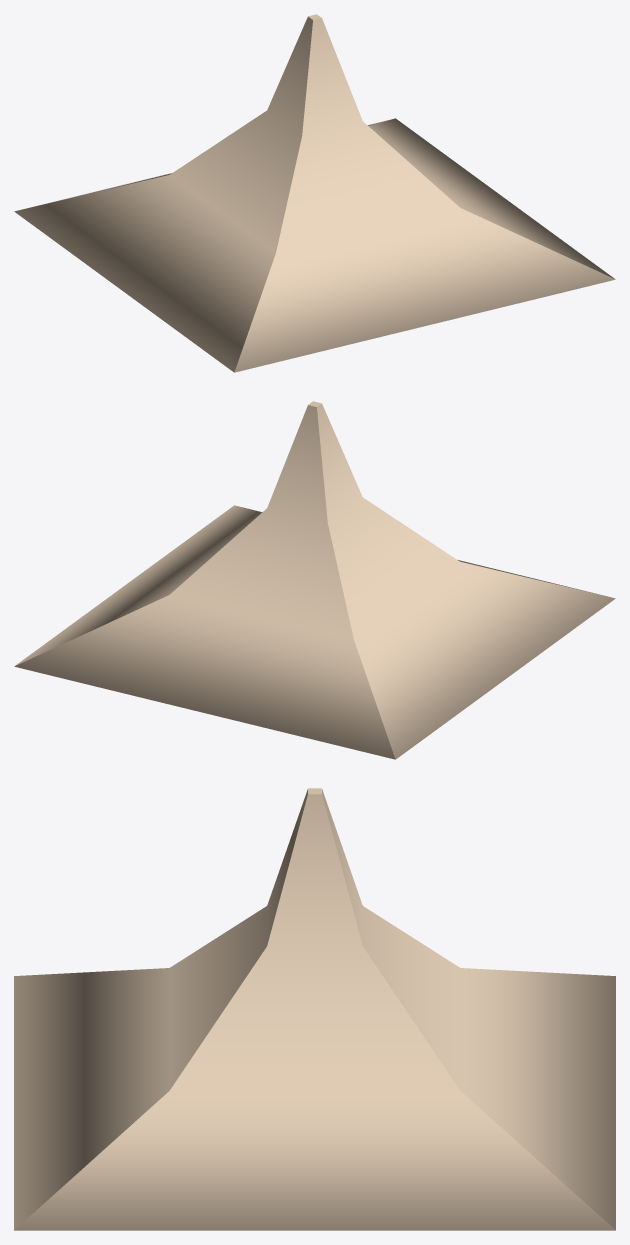
File: pointy_deco.fbx
3 views of the same model, one above another, from view 1: azimuth 30°, elevation 25°; view 2: azimuth 150°, elevation 25°; view 3: azimuth 270°, elevation 25° (orthographic). The views are drawn at different scales.
Visible parts, largest first — view 1: pointy_deco; view 2: pointy_deco; view 3: pointy_deco.
Boxes of the visible parts, <box> form: pointy_deco: <box>14,14,615,372</box>; pointy_deco: <box>14,401,615,759</box>; pointy_deco: <box>14,788,615,1230</box>.
Bounding box in the file's own units: 50 × 30.28 × 50.
